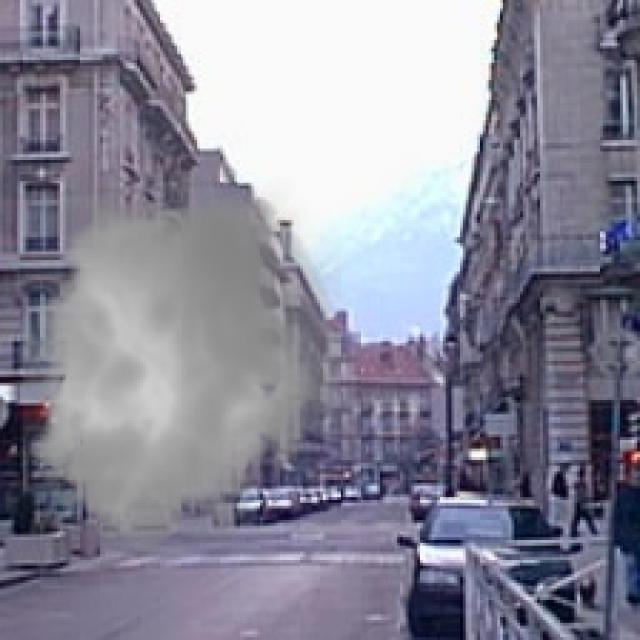smoke: (9, 177, 352, 566)
